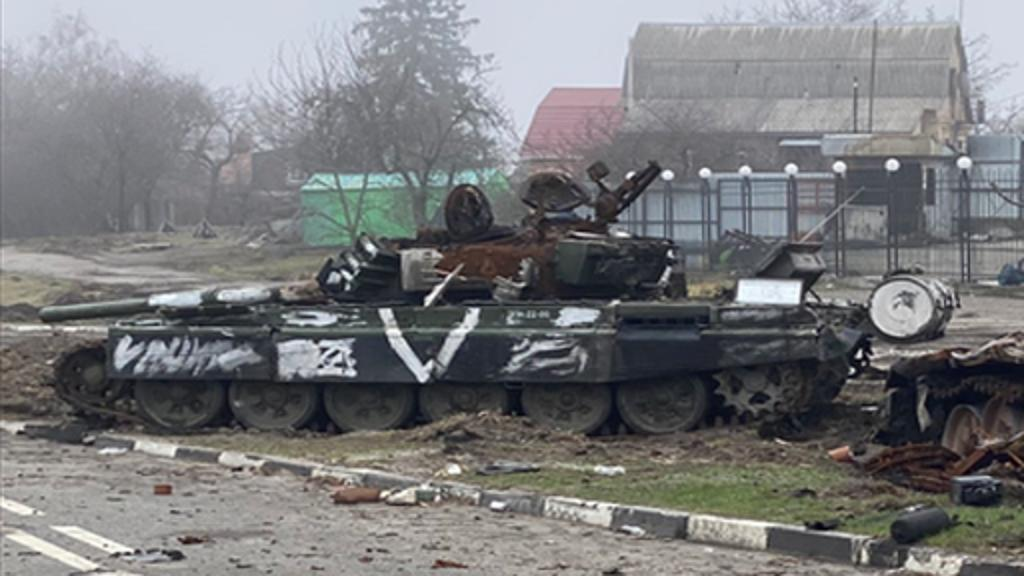TANK: (24, 192, 856, 444)
